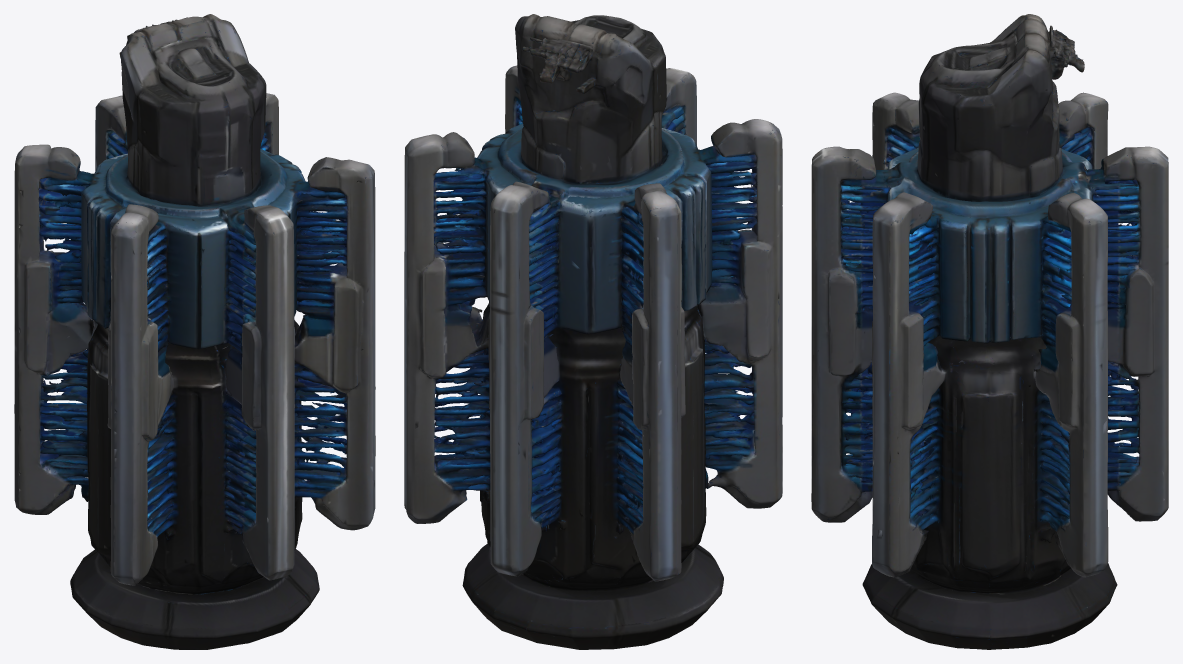
Rendered from SpaceO2Recycler.glb.
3 views of the same model, side by side, from view 1: azimuth 30°, elevation 25°; view 2: azimuth 150°, elevation 25°; view 3: azimuth 270°, elevation 25° (orthographic). The views are drawn at different scales.
Size of the model in its own units: 0.9584 by 2 by 1.12.
Materials: 1 (1 with a texture image).
